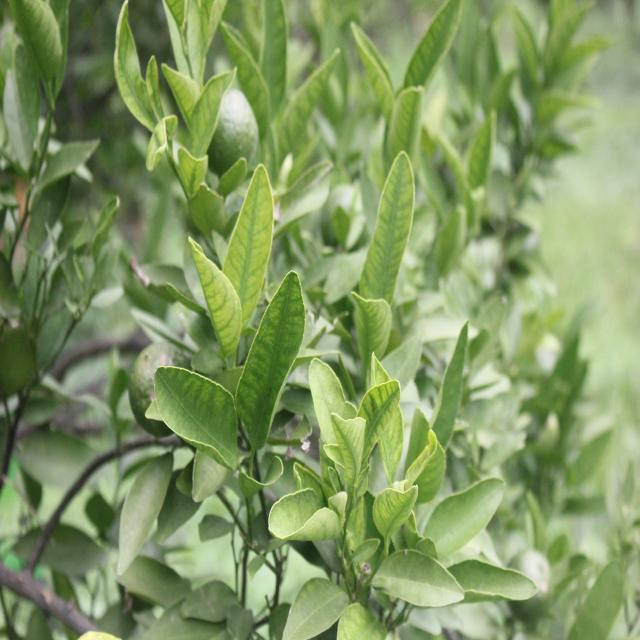greening: (244, 274, 304, 440), (152, 356, 236, 473), (227, 165, 274, 313), (187, 238, 240, 348), (374, 150, 408, 297), (363, 378, 400, 441)
